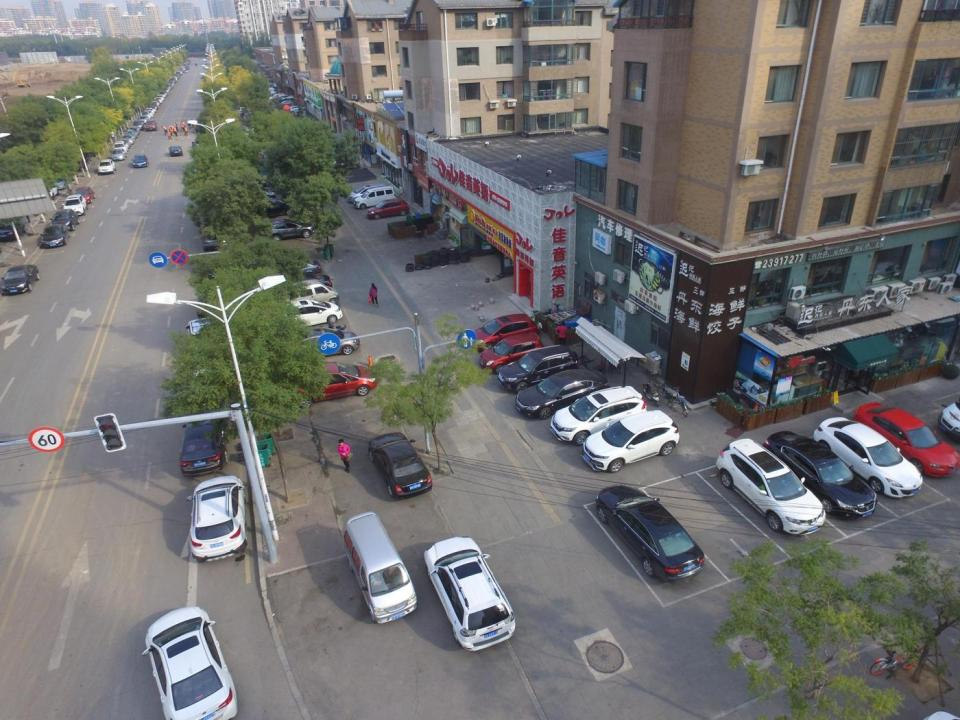car: (144, 604, 243, 720), (594, 486, 706, 584), (717, 440, 825, 538), (424, 536, 515, 652), (764, 429, 877, 520), (815, 417, 923, 499), (856, 400, 958, 478), (583, 408, 679, 474), (550, 387, 648, 446), (190, 476, 248, 562), (516, 370, 611, 421), (367, 432, 432, 499), (285, 363, 379, 408), (499, 343, 577, 395), (178, 416, 231, 473), (470, 315, 539, 352), (479, 336, 543, 374), (280, 328, 360, 356), (273, 300, 342, 329), (273, 271, 334, 301), (265, 255, 323, 283), (188, 317, 220, 363), (259, 219, 315, 243), (0, 263, 40, 294), (244, 197, 294, 219), (366, 198, 410, 220), (198, 218, 226, 252), (344, 183, 384, 205), (40, 226, 70, 250), (51, 209, 80, 231), (0, 218, 26, 241), (33, 181, 58, 202), (63, 194, 86, 214), (96, 156, 115, 176), (74, 186, 96, 203), (46, 173, 68, 189), (284, 106, 306, 117), (131, 154, 147, 168), (275, 94, 296, 104), (267, 93, 290, 102), (110, 150, 127, 161), (113, 141, 128, 153), (278, 101, 298, 110), (145, 120, 156, 132), (119, 138, 130, 150), (122, 134, 134, 145), (169, 146, 182, 156), (132, 121, 144, 130), (125, 130, 136, 139), (129, 126, 140, 135), (139, 116, 150, 125), (141, 112, 152, 121), (145, 107, 156, 116), (143, 109, 153, 118), (147, 105, 156, 112)
van: (342, 512, 418, 622), (279, 279, 337, 317), (353, 188, 394, 210)
